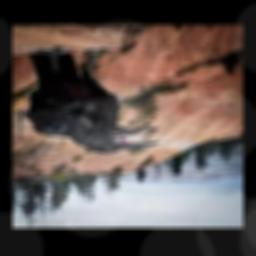Crow: (19, 53, 160, 154)
